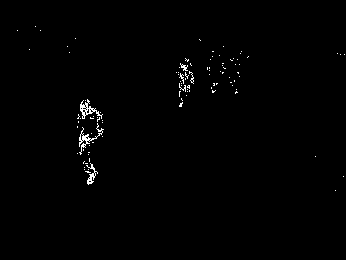person: (73, 98, 108, 186), (175, 55, 197, 110)
